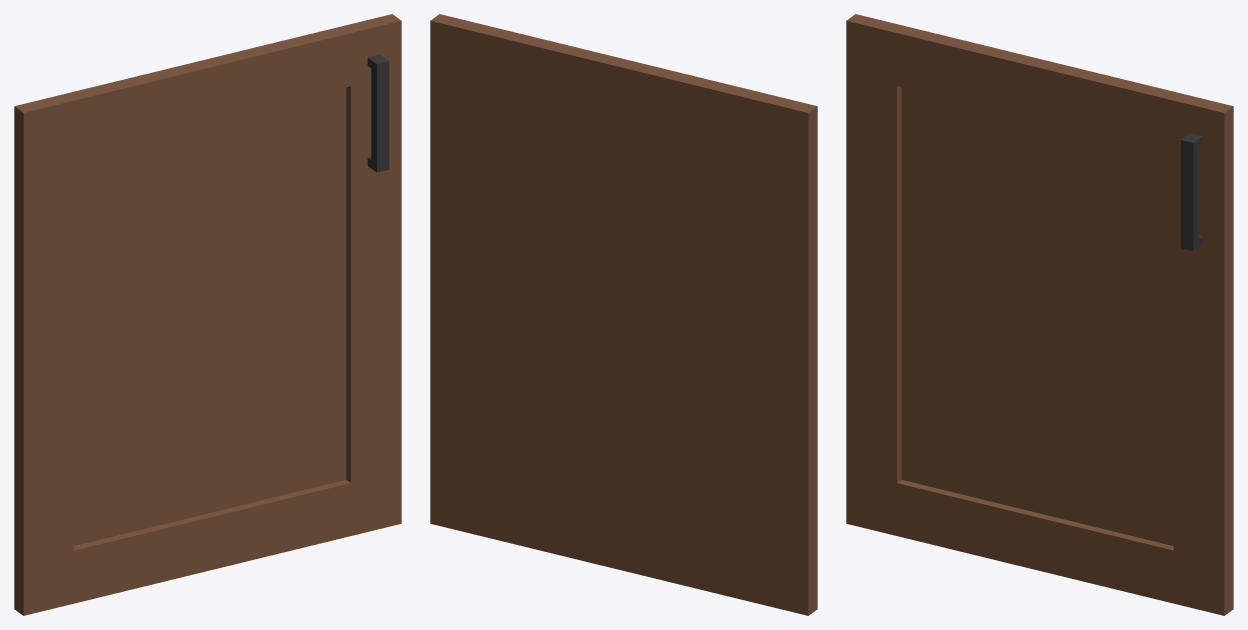
Rendered from Door2_C2_02.fbx.
3 views of the same model, side by side, from view 1: azimuth 30°, elevation 25°; view 2: azimuth 150°, elevation 25°; view 3: azimuth 330°, elevation 25° (orthographic).
Parts seen in each view (by area): view 1: Door2_C2_02; view 2: Door2_C2_02; view 3: Door2_C2_02.
Boxes of the visible parts, x1,y1,x2,y2 form: Door2_C2_02: (14, 14, 401, 615); Door2_C2_02: (430, 14, 817, 615); Door2_C2_02: (846, 14, 1233, 615).
Size of the model in its own units: 59 by 75 by 5.03.
